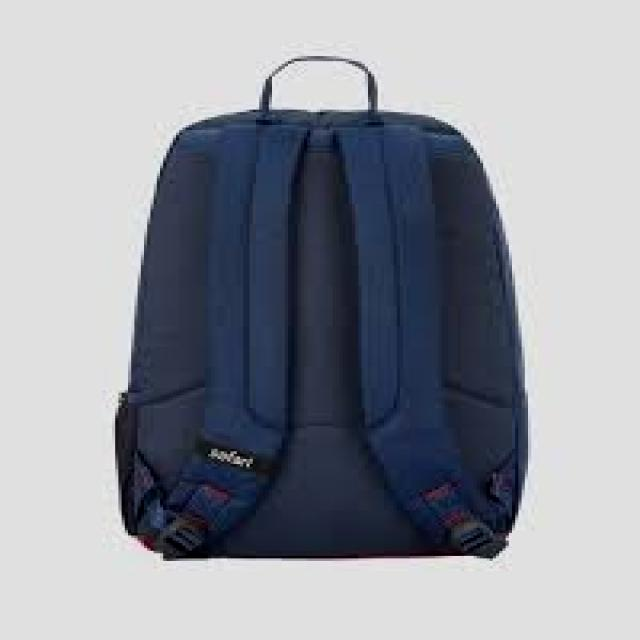backpack: (113, 55, 529, 563)
